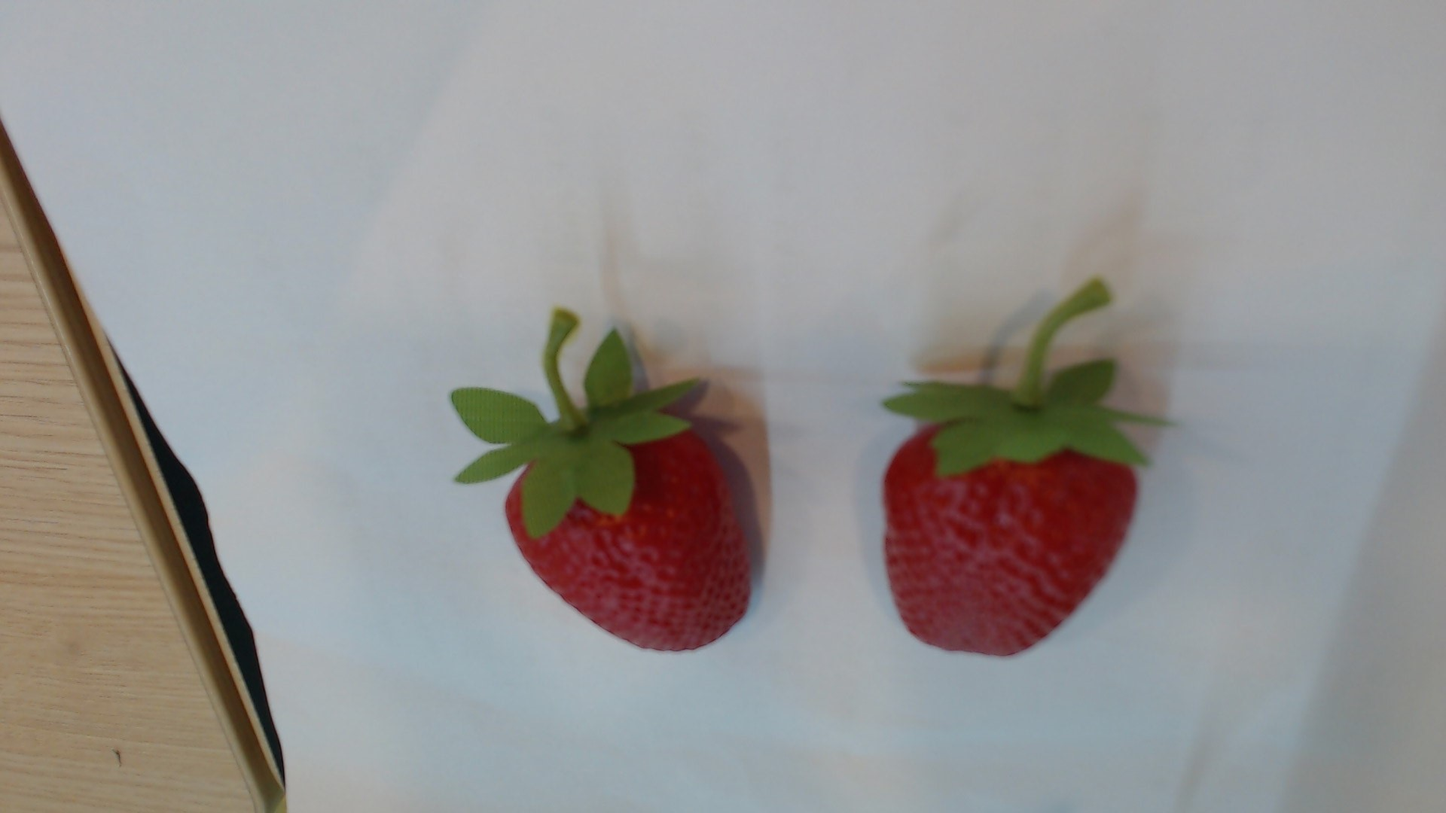strawberry: (874, 391, 1145, 659), (495, 405, 762, 659)
